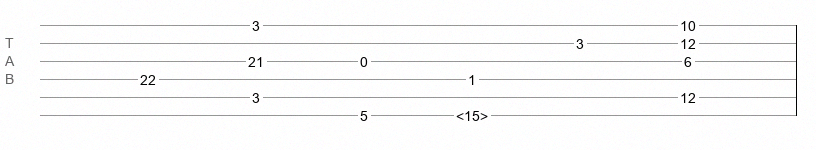0: (360, 54, 368, 64)
1: (468, 72, 476, 82)
10: (680, 18, 696, 28)
12: (680, 90, 696, 100), (680, 36, 696, 46)
21: (248, 54, 264, 64)
22: (140, 72, 156, 82)
3: (252, 18, 260, 28), (252, 90, 260, 100), (576, 36, 584, 46)
5: (360, 108, 368, 118)
6: (684, 54, 692, 64)
harmonic: (456, 108, 488, 118)
